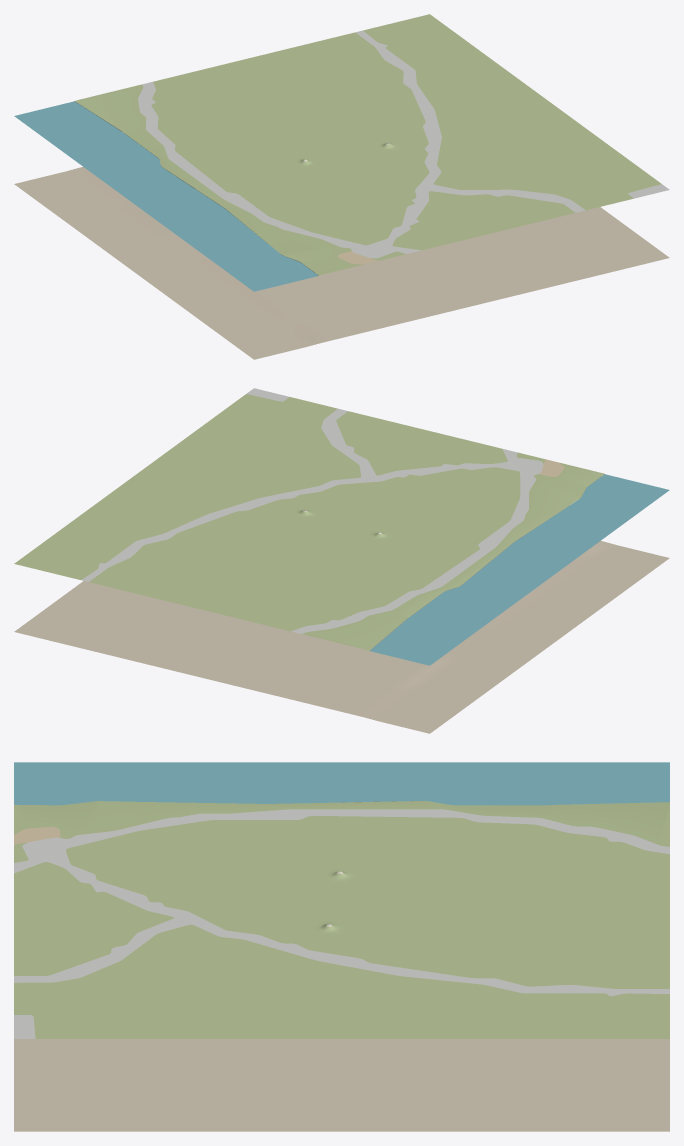
3 renders of one model, top to bottom at view 1: azimuth 30°, elevation 25°; view 2: azimuth 150°, elevation 25°; view 3: azimuth 270°, elevation 25°, orthographic. The views are drawn at different scales.
Parts seen in each view (by area): view 1: s_-12_3__grass, s_-12_3__soil, s_-12_3__water, s_-12_3__stone_paving; view 2: s_-12_3__grass, s_-12_3__soil, s_-12_3__water, s_-12_3__stone_paving; view 3: s_-12_3__grass, s_-12_3__soil, s_-12_3__water, s_-12_3__stone_paving, s_-12_3__timber_deck.
Part boxes in pixels (x1,y1,x2,y2): s_-12_3__grass: [75, 14, 661, 275]; s_-12_3__soil: [14, 167, 669, 359]; s_-12_3__water: [14, 101, 318, 291]; s_-12_3__stone_paving: [138, 30, 669, 258]; s_-12_3__grass: [14, 394, 604, 650]; s_-12_3__soil: [14, 510, 669, 733]; s_-12_3__water: [370, 474, 669, 665]; s_-12_3__stone_paving: [81, 388, 543, 633]; s_-12_3__grass: [14, 801, 669, 1038]; s_-12_3__soil: [14, 1039, 669, 1131]; s_-12_3__water: [14, 762, 669, 805]; s_-12_3__stone_paving: [14, 809, 669, 1038]; s_-12_3__timber_deck: [14, 826, 60, 844].
Size of the model in its own units: 128 by 20.9 by 128.
